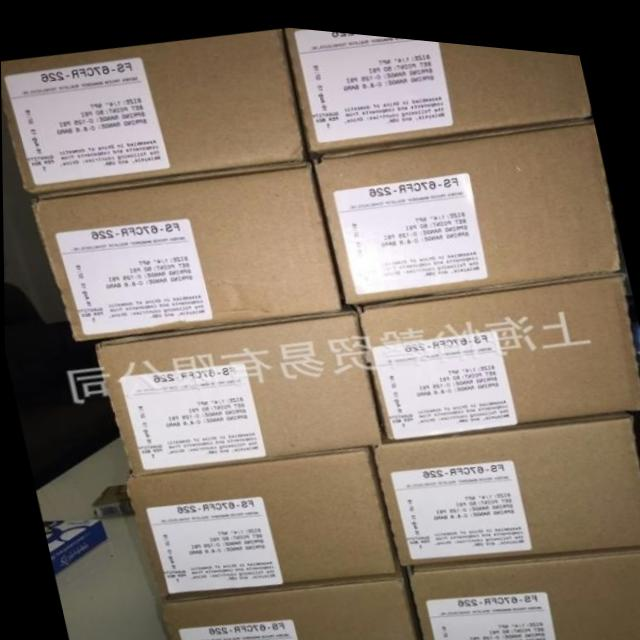box: (30, 156, 344, 339), (314, 109, 621, 296), (1, 25, 305, 192), (94, 303, 381, 474), (358, 259, 639, 430), (124, 441, 392, 593), (375, 404, 640, 557), (281, 23, 588, 145), (404, 536, 640, 640), (157, 569, 416, 640)
